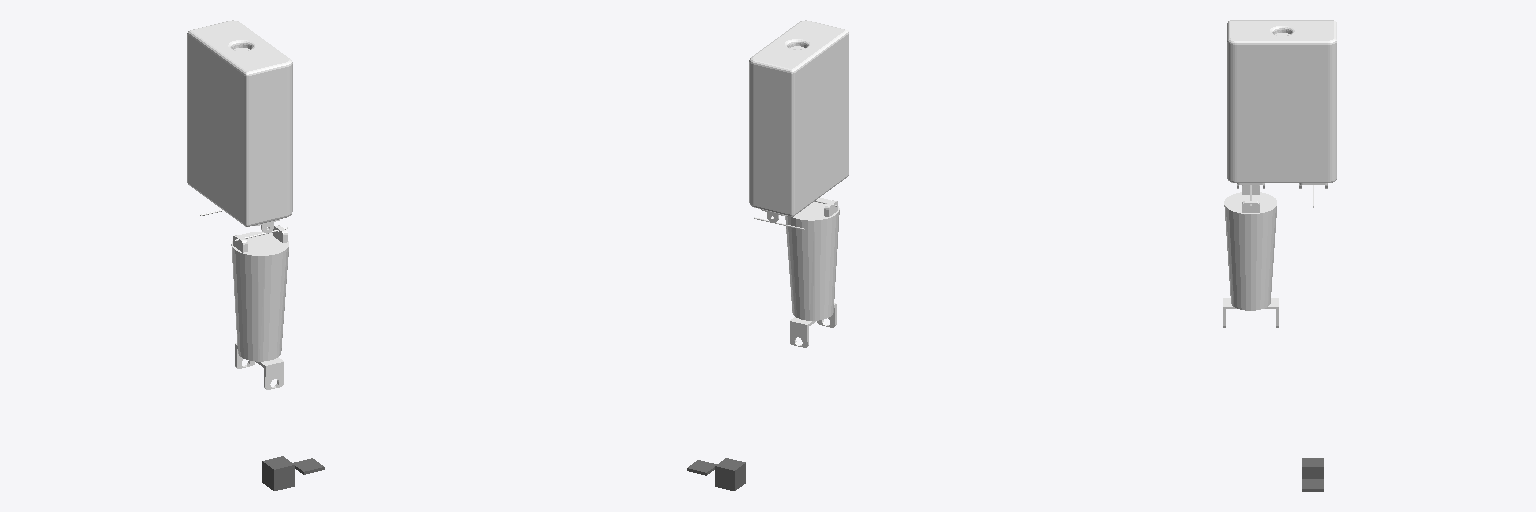
robot.urdf — base_ankle_end:
<?xml version="1.0" encoding="utf-8"?>
<!-- This URDF was automatically created by SolidWorks to URDF Exporter! Originally created by [author] ([email redacted]) 
     Commit Version: 1.6.0-4-g7f85cfe  Build Version: 1.6.7995.38578
     For more information, please see http://wiki.ros.org/sw_urdf_exporter -->
<robot
  name="base_ankle_end">
    <mujoco>
    	<compiler 
    	balanceinertia="true" 
    	discardvisual="false" />
    </mujoco>
  <!-- 以下为新加 -->

  <link name="base_link">
  <visual>
    <geometry>
      <box size="0.07 0.07 0.07" />
    </geometry>
    <origin xyz="0 0 0" rpy="0 0 0"/>
    <material name="gray">
      <color rgba="0.5 0.5 0.5 0.5"/>
    </material>
  </visual>
</link>

  <link name="box_base_link">
  <visual>
    <geometry>
      <box size="0.07 0.07 0.01" />
    </geometry>
    <origin xyz="0 0 0" rpy="0 0 0"/>
    <material name="gray">
      <color rgba="0.5 0.5 0.5 0.5"/>
    </material>
  </visual>
</link>

  <joint name="base_link-base_link_inertia" type="fixed">
    <parent link="base_link"/>
    <child link="box_base_link"/>
    <!-- 'base_link' is REP-103 aligned (so X+ forward), while the internal
           frames of the robot/controller have X+ pointing backwards.
           Use the joint between 'base_link' and 'base_link_inertia' (a dummy
           link/frame) to introduce the necessary rotation over Z (of pi rad).
      -->
    <origin rpy="0 0 0" xyz="0.1 0 0"/>
  </joint>
  <!-- 以上为新加 -->
  <link
    name="base_link1">
    <inertial>
      <origin
        xyz="-0.00519024755711195 9.39001414845819E-06 0.0173437496912965"
        rpy="0 0 0" />
      <mass
        value="0.645015214098198" />
      <inertia
        ixx="0.000503285498338914"
        ixy="1.09542180719944E-07"
        ixz="-4.87952889697005E-05"
        iyy="0.00265869095262655"
        iyz="-1.96247244867208E-07"
        izz="0.0030000255131344" />
    </inertial>
    <visual>
      <origin
        xyz="-0.1 0 0"
        rpy="0 0 0" />
      <geometry>
        <mesh
          filename="package://base_ankle_end/meshes/base_link.STL" />
      </geometry>
      <material
        name="ma_1">
        <color
          rgba="1 1 1 1" />
      </material>
    </visual>
    <collision>
      <origin
        xyz="-0.1 0 0"
        rpy="0 0 0" />
      <geometry>
        <mesh
          filename="package://base_ankle_end/meshes/base_link.STL" />
      </geometry>
    </collision>
  </link>

  <!-- 用固定关节将 front_box_link 接在 base_link 前方10cm -->
  <joint
    name="front_box_joint"
    type="revolute">
  <origin xyz="-0.1 0 0" rpy="0 0 0"/> <!-- 相对于base_link前方10cm -->
    <parent
      link="box_base_link" />
    <child
      link="base_link1" />
    <axis
      xyz="0 1 0" />
    <limit
      lower="-1.57"
      upper="1.57"
      effort="10"
      velocity="10" />
    <dynamics
      damping="0.5"
      friction="0.1" />
    <safety_controller
      k_position="0.5"
      k_velocity="1" />
  </joint>


  <link
    name="left_ankle_roll_link">
    <inertial>
      <origin
        xyz="0 0 1.38333788868295E-13"
        rpy="0 0 0" />
      <mass
        value="0.000848230016469244" />
      <inertia
        ixx="2.70197505004583E-09"
        ixy="-3.37231195980212E-22"
        ixz="-2.69558871925918E-09"
        iyy="1.44464174679918E-07"
        iyz="-9.92616735063633E-24"
        izz="1.44412918431339E-07" />
    </inertial>
    <visual>
      <origin
        xyz="0 0 0"
        rpy="0 0 0" />
      <geometry>
        <mesh
          filename="package://base_ankle_end/meshes/left_ankle_roll_link.STL" />
      </geometry>
      <material
        name="ma_2">
        <color
          rgba="1 1 1 1" />
      </material>
    </visual>
    <collision>
      <origin
        xyz="0 0 0"
        rpy="0 0 0" />
      <geometry>
        <mesh
          filename="package://base_ankle_end/meshes/left_ankle_roll_link.STL" />
      </geometry>
    </collision>
  </link>
  <joint
    name="left_ankle_roll_joint"
    type="revolute">
    <origin
      xyz="-0.178708 0 0.056852"
      rpy="0 0 0" />
    <parent
      link="base_link1" />
    <child
      link="left_ankle_roll_link" />
    <axis
      xyz="1 0 0" />
    <limit
      lower="-1.57"
      upper="1.57"
      effort="10"
      velocity="10" />
    <dynamics
      damping="0.5"
      friction="0.1" />
    <safety_controller
      k_position="0.5"
      k_velocity="1" />
  </joint>
  <link
    name="left_ankle_pitch_link">
    <inertial>
      <origin
        xyz="-0.0234064281405076 2.38679561981314E-05 0.201311963091324"
        rpy="0 0 0" />
      <mass
        value="3.27078267024693" />
      <inertia
        ixx="0.0280961171177838"
        ixy="3.58921474122266E-07"
        ixz="0.000281630435452185"
        iyy="0.0282914322023648"
        iyz="-5.3643597276653E-06"
        izz="0.00577588257165031" />
    </inertial>
    <visual>
      <origin
        xyz="0 0 0"
        rpy="0 0 0" />
      <geometry>
        <mesh
          filename="package://base_ankle_end/meshes/left_ankle_pitch_link.STL" />
      </geometry>
      <material
        name="ma_3">
        <color
          rgba="1 1 1 1" />
      </material>
    </visual>
    <collision>
      <origin
        xyz="0 0 0"
        rpy="0 0 0" />
      <geometry>
        <mesh
          filename="package://base_ankle_end/meshes/left_ankle_pitch_link.STL" />
      </geometry>
    </collision>
  </link>
  <joint
    name="left_ankle_pitch_joint"
    type="revolute">
    <origin
      xyz="0.0072073 0.0011663 0.040705"
      rpy="0 0 0" />
    <parent
      link="left_ankle_roll_link" />
    <child
      link="left_ankle_pitch_link" />
    <axis
      xyz="0 1 0" />
    <limit
      lower="-1.57"
      upper="1.57"
      effort="10"
      velocity="10" />
    <dynamics
      damping="0.5"
      friction="0.1" />
    <safety_controller
      k_position="0.5"
      k_velocity="1" />
  </joint>
  <link
    name="left_knee_link">
    <inertial>
      <origin
        xyz="0.00438963574186652 -0.000285077253932231 0.248207083173521"
        rpy="0 0 0" />
      <mass
        value="6.12468361635713" />
      <inertia
        ixx="0.0780580316058013"
        ixy="8.1539685054758E-08"
        ixz="-0.00106206707069426"
        iyy="0.0775561774505801"
        iyz="-4.41397833539879E-08"
        izz="0.0180192407121441" />
    </inertial>
    <visual>
      <origin
        xyz="0 0 0"
        rpy="0 0 0" />
      <geometry>
        <mesh
          filename="package://base_ankle_end/meshes/left_knee_link.STL" />
      </geometry>
      <material
        name="ma_4">
        <color
          rgba="1 1 1 1" />
      </material>
    </visual>
    <collision>
      <origin
        xyz="0 0 0"
        rpy="0 0 0" />
      <geometry>
        <mesh
          filename="package://base_ankle_end/meshes/left_knee_link.STL" />
      </geometry>
    </collision>
  </link>
  <joint
    name="left_knee_joint"
    type="revolute">
    <origin
      xyz="-0.012395 -0.00023097 0.35385"
      rpy="0 0 0" />
    <parent
      link="left_ankle_pitch_link" />
    <child
      link="left_knee_link" />
    <axis
      xyz="0 1 0" />
    <limit
      lower="-1.57"
      upper="0"
      effort="10"
      velocity="10" />
    <dynamics
      damping="0.5"
      friction="0.1" />
    <safety_controller
      k_position="0.5"
      k_velocity="1" />
  </joint>
  <link
    name="left_leg_roll_link">
    <inertial>
      <origin
        xyz="-5.55111512312578E-17 0 0"
        rpy="0 0 0" />
      <mass
        value="0.00339292006587698" />
      <inertia
        ixx="1.34635412444667E-08"
        ixy="2.25654871104466E-21"
        ixz="1.61811251767272E-07"
        iyy="9.16618561547077E-06"
        iyz="2.11758236813575E-22"
        izz="9.16332494943217E-06" />
    </inertial>
    <visual>
      <origin
        xyz="0 0 0"
        rpy="0 0 0" />
      <geometry>
        <mesh
          filename="package://base_ankle_end/meshes/left_leg_roll_link.STL" />
      </geometry>
      <material
        name="ma_5">
        <color
          rgba="1 1 1 1" />
      </material>
    </visual>
    <collision>
      <origin
        xyz="0 0 0"
        rpy="0 0 0" />
      <geometry>
        <mesh
          filename="package://base_ankle_end/meshes/left_leg_roll_link.STL" />
      </geometry>
    </collision>
  </link>
  <joint
    name="left_leg_roll_joint"
    type="revolute">
    <origin
      xyz="0.0099079 -0.00028408 0.44139"
      rpy="0 0 0" />
    <parent
      link="left_knee_link" />
    <child
      link="left_leg_roll_link" />
    <axis
      xyz="1 0 0" />
    <limit
      lower="-1.57"
      upper="1.57"
      effort="10"
      velocity="10" />
    <dynamics
      damping="0.5"
      friction="0.1" />
    <safety_controller
      k_position="0.5"
      k_velocity="1" />
  </joint>
  <link
    name="left_leg_pitch_link">
    <inertial>
      <origin
        xyz="8.21565038222616E-15 -0.000521354280183628 -5.32907051820075E-15"
        rpy="0 0 0" />
      <mass
        value="0.00113097335529233" />
      <inertia
        ixx="3.41059152455343E-07"
        ixy="-2.23493861754171E-22"
        ixz="-2.64697796016969E-23"
        iyy="3.5342917352885E-09"
        iyz="-9.91582759297942E-23"
        izz="3.41059152455343E-07" />
    </inertial>
    <visual>
      <origin
        xyz="0 0 0"
        rpy="0 0 0" />
      <geometry>
        <mesh
          filename="package://base_ankle_end/meshes/left_leg_pitch_link.STL" />
      </geometry>
      <material
        name="ma_6">
        <color
          rgba="1 1 1 1" />
      </material>
    </visual>
    <collision>
      <origin
        xyz="0 0 0"
        rpy="0 0 0" />
      <geometry>
        <mesh
          filename="package://base_ankle_end/meshes/left_leg_pitch_link.STL" />
      </geometry>
    </collision>
  </link>
  <joint
    name="left_leg_pitch_joint"
    type="revolute">
    <origin
      xyz="-0.0014168 0.00028408 0.038795"
      rpy="0 0 0" />
    <parent
      link="left_leg_roll_link" />
    <child
      link="left_leg_pitch_link" />
    <axis
      xyz="0 -1 0" />
    <limit
      lower="-1.57"
      upper="1.57"
      effort="10"
      velocity="10" />
    <dynamics
      damping="0.5"
      friction="0.1" />
    <safety_controller
      k_position="0.5"
      k_velocity="1" />
  </joint>
  <link
    name="left_leg_yaw_link">
    <inertial>
      <origin
        xyz="1.10711440015621E-12 -1.6278089987054E-12 -0.00611239261076424"
        rpy="0 0 0" />
      <mass
        value="0.0720785409137567" />
      <inertia
        ixx="7.34571821011851E-05"
        ixy="6.18334051495639E-20"
        ixz="1.13502414932076E-19"
        iyy="4.8256871247448E-05"
        iyz="2.10064170919066E-19"
        izz="0.000110077477602683" />
    </inertial>
    <visual>
      <origin
        xyz="0 0 0"
        rpy="0 0 0" />
      <geometry>
        <mesh
          filename="package://base_ankle_end/meshes/left_leg_yaw_link.STL" />
      </geometry>
      <material
        name="ma_7">
        <color
          rgba="1 1 1 1" />
      </material>
    </visual>
    <collision>
      <origin
        xyz="0 0 0"
        rpy="0 0 0" />
      <geometry>
        <mesh
          filename="package://base_ankle_end/meshes/left_leg_yaw_link.STL" />
      </geometry>
    </collision>
  </link>
  <joint
    name="left_leg_yaw_joint"
    type="revolute">
    <origin
      xyz="0 0 0.021287"
      rpy="0 0 0" />
    <parent
      link="left_leg_pitch_link" />
    <child
      link="left_leg_yaw_link" />
    <axis
      xyz="0 0 1" />
    <limit
      lower="-1.57"
      upper="1.57"
      effort="10"
      velocity="10" />
    <dynamics
      damping="0.5"
      friction="0.1" />
    <safety_controller
      k_position="0.5"
      k_velocity="1" />
  </joint>
  <link
    name="body_link">
    <inertial>
      <origin
        xyz="3.33066907387547E-16 1.66533453693773E-15 1.33226762955019E-15"
        rpy="0 0 0" />
      <mass
        value="28.2247396154342" />
      <inertia
        ixx="0.867790478713512"
        ixy="-1.38777878078145E-17"
        ixz="-2.39840411104877E-05"
        iyy="0.65033414213868"
        iyz="1.11022302462516E-16"
        izz="0.351969962013228" />
    </inertial>
    <visual>
      <origin
        xyz="0 0 0"
        rpy="0 0 0" />
      <geometry>
        <mesh
          filename="package://base_ankle_end/meshes/body_link.STL" />
      </geometry>
      <material
        name="ma_8">
        <color
          rgba="1 1 1 1" />
      </material>
    </visual>
    <collision>
      <origin
        xyz="0 0 0"
        rpy="0 0 0" />
      <geometry>
        <mesh
          filename="package://base_ankle_end/meshes/body_link.STL" />
      </geometry>
    </collision>
  </link>
  <joint
    name="body_joint"
    type="fixed">
    <origin
      xyz="-0.0080688 -0.099502 0.26041"
      rpy="0 0 0" />
    <parent
      link="left_leg_yaw_link" />
    <child
      link="body_link" />
    <axis
      xyz="0 0 0" />
    <limit
      lower="-3.14"
      upper="3.14"
      effort="100"
      velocity="100" />
  </joint>
  <link
    name="right_leg_yaw_link">
    <inertial>
      <origin
        xyz="7.19202475352176E-13 -1.57251989207907E-12 -0.00477239261085849"
        rpy="0 0 0" />
      <mass
        value="0.0720785409137568" />
      <inertia
        ixx="7.3457182101185E-05"
        ixy="3.3881317890172E-21"
        ixz="-2.05829006182795E-19"
        iyy="4.8256871247448E-05"
        iyz="-5.75982404132924E-20"
        izz="0.000110077477602683" />
    </inertial>
    <visual>
      <origin
        xyz="0 0 0"
        rpy="0 0 0" />
      <geometry>
        <mesh
          filename="package://base_ankle_end/meshes/right_leg_yaw_link.STL" />
      </geometry>
      <material
        name="ma_9">
        <color
          rgba="1 1 1 1" />
      </material>
    </visual>
    <collision>
      <origin
        xyz="0 0 0"
        rpy="0 0 0" />
      <geometry>
        <mesh
          filename="package://base_ankle_end/meshes/right_leg_yaw_link.STL" />
      </geometry>
    </collision>
  </link>
  <joint
    name="right_leg_yaw_join"
    type="revolute">
    <origin
      xyz="0.0080688 -0.099502 -0.26176"
      rpy="0 0 0" />
    <parent
      link="body_link" />
    <child
      link="right_leg_yaw_link" />
    <axis
      xyz="0 0 1" />
    <limit
      lower="-1.57"
      upper="1.57"
      effort="10"
      velocity="10" />
    <dynamics
      damping="0.5"
      friction="0.1" />
  </joint>
  <link
    name="right_leg_pitch_link">
    <inertial>
      <origin
        xyz="4.38538094726937E-15 4.00252371324794E-05 6.66133814775094E-16"
        rpy="0 0 0" />
      <mass
        value="0.00113097335529233" />
      <inertia
        ixx="3.41059152455343E-07"
        ixy="2.31662270303132E-22"
        ixz="5.29395592033938E-23"
        iyy="3.5342917352886E-09"
        iyz="-2.20340235668813E-22"
        izz="3.41059152455343E-07" />
    </inertial>
    <visual>
      <origin
        xyz="0 0 0"
        rpy="0 0 0" />
      <geometry>
        <mesh
          filename="package://base_ankle_end/meshes/right_leg_pitch_link.STL" />
      </geometry>
      <material
        name="ma_19">
        <color
          rgba="1 1 1 1" />
      </material>
    </visual>
    <collision>
      <origin
        xyz="0 0 0"
        rpy="0 0 0" />
      <geometry>
        <mesh
          filename="package://base_ankle_end/meshes/right_leg_pitch_link.STL" />
      </geometry>
    </collision>
  </link>
  <joint
    name="right_leg_pitch_joint"
    type="revolute">
    <origin
      xyz="0 0 -0.019947"
      rpy="0 0 0" />
    <parent
      link="right_leg_yaw_link" />
    <child
      link="right_leg_pitch_link" />
    <axis
      xyz="0 1 0" />
    <limit
      lower="-1.57"
      upper="1.57"
      effort="10"
      velocity="10" />
    <dynamics
      damping="0.5"
      friction="0.1" />
    <safety_controller
      k_position="0.5"
      k_velocity="1" />
  </joint>
  <link
    name="right_leg_roll_link">
    <inertial>
      <origin
        xyz="-0.00289569852906202 3.10341332410147E-07 -0.192991489371366"
        rpy="0 0 0" />
      <mass
        value="6.1246818435944" />
      <inertia
        ixx="0.0780640540254404"
        ixy="8.60302312591724E-08"
        ixz="-0.000465836285131253"
        iyy="0.0775652986551364"
        iyz="-4.26589602752457E-08"
        izz="0.018004068548793" />
    </inertial>
    <visual>
      <origin
        xyz="0 0 0"
        rpy="0 0 0" />
      <geometry>
        <mesh
          filename="package://base_ankle_end/meshes/right_leg_roll_link.STL" />
      </geometry>
      <material
        name="ma_10">
        <color
          rgba="1 1 1 1" />
      </material>
    </visual>
    <collision>
      <origin
        xyz="0 0 0"
        rpy="0 0 0" />
      <geometry>
        <mesh
          filename="package://base_ankle_end/meshes/right_leg_roll_link.STL" />
      </geometry>
    </collision>
  </link>
  <joint
    name="right_leg_roll_joint"
    type="revolute">
    <origin
      xyz="0.0010999 -0.00042424 -0.038774"
      rpy="0 0 0" />
    <parent
      link="right_leg_pitch_link" />
    <child
      link="right_leg_roll_link" />
    <axis
      xyz="1 0 0" />
    <limit
      lower="-1.57"
      upper="1.57"
      effort="10"
      velocity="10" />
    <dynamics
      damping="0.5"
      friction="0.1" />
    <safety_controller
      k_position="0.5"
      k_velocity="1" />
  </joint>
  <link
    name="right_knee_link">
    <inertial>
      <origin
        xyz="-0.00996661968326495 -0.00124347144143699 -0.152397357108272"
        rpy="0 0 0" />
      <mass
        value="3.27332620914654" />
      <inertia
        ixx="0.0281003122486027"
        ixy="3.9541620208694E-07"
        ixz="0.000432870163542371"
        iyy="0.028291455089244"
        iyz="-5.36037576514495E-06"
        izz="0.00578974877715313" />
    </inertial>
    <visual>
      <origin
        xyz="0 0 0"
        rpy="0 0 0" />
      <geometry>
        <mesh
          filename="package://base_ankle_end/meshes/right_knee_link.STL" />
      </geometry>
      <material
        name="ma_11">
        <color
          rgba="1 1 1 1" />
      </material>
    </visual>
    <collision>
      <origin
        xyz="0 0 0"
        rpy="0 0 0" />
      <geometry>
        <mesh
          filename="package://base_ankle_end/meshes/right_knee_link.STL" />
      </geometry>
    </collision>
  </link>
  <joint
    name="right_knee_joint"
    type="revolute">
    <origin
      xyz="-0.0048229 0.00042424 -0.44148"
      rpy="0 0 0" />
    <parent
      link="right_leg_roll_link" />
    <child
      link="right_knee_link" />
    <axis
      xyz="0 -1 0" />
    <limit
      lower="-1.57"
      upper="1.57"
      effort="10"
      velocity="10" />
    <dynamics
      damping="0.5"
      friction="0.1" />
    <safety_controller
      k_position="0.5"
      k_velocity="1" />
  </joint>
  <link
    name="right_ankle_pitch_link">
    <inertial>
      <origin
        xyz="-5.55111512312578E-17 -1.11022302462516E-16 -2.22044604925031E-16"
        rpy="0 0 0" />
      <mass
        value="0.000848230016469244" />
      <inertia
        ixx="1.44464174679918E-07"
        ixy="6.29717090700135E-22"
        ixz="-4.96308367531817E-24"
        iyy="2.65071880146639E-09"
        iyz="-5.00030680288305E-22"
        izz="1.44464174679918E-07" />
    </inertial>
    <visual>
      <origin
        xyz="0 0 0"
        rpy="0 0 0" />
      <geometry>
        <mesh
          filename="package://base_ankle_end/meshes/right_ankle_pitch_link.STL" />
      </geometry>
      <material
        name="ma_12">
        <color
          rgba="1 1 1 1" />
      </material>
    </visual>
    <collision>
      <origin
        xyz="0 0 0"
        rpy="0 0 0" />
      <geometry>
        <mesh
          filename="package://base_ankle_end/meshes/right_ankle_pitch_link.STL" />
      </geometry>
    </collision>
  </link>
  <joint
    name="right_ankle_pitch_joint"
    type="continuous">
    <origin
      xyz="0.0148 -0.0012742 -0.35375"
      rpy="0 0 0" />
    <parent
      link="right_knee_link" />
    <child
      link="right_ankle_pitch_link" />
    <axis
      xyz="0 1 0" />
    <limit
      lower="-1.57"
      upper="1.57"
      effort="10"
      velocity="10" />
    <dynamics
      damping="0.5"
      friction="0.1" />
    <safety_controller
      k_position="0.5"
      k_velocity="1" />
  </joint>
  <link
    name="right_ankle_roll_link">
    <inertial>
      <origin
        xyz="0.0535943280540432 9.37743761397769E-06 -0.0392563681851867"
        rpy="0 0 0" />
      <mass
        value="0.645863444025517" />
      <inertia
        ixx="0.000503688252971416"
        ixy="1.10275346312227E-07"
        ixz="-5.81374898756995E-05"
        iyy="0.00265883541640769"
        iyz="-1.95836094167676E-07"
        izz="0.00299976987276475" />
    </inertial>
    <visual>
      <origin
        xyz="0 0 0"
        rpy="0 0 0" />
      <geometry>
        <mesh
          filename="package://base_ankle_end/meshes/right_ankle_roll_link.STL" />
      </geometry>
      <material
        name="ma_13">
        <color
          rgba="1 1 1 1" />
      </material>
    </visual>
    <collision>
      <origin
        xyz="0 0 0"
        rpy="0 0 0" />
      <geometry>
        <mesh
          filename="package://base_ankle_end/meshes/right_ankle_roll_link.STL" />
      </geometry>
    </collision>
  </link>
  <joint
    name="right_ankle_roll_joint"
    type="revolute">
    <origin
      xyz="0.0025155 -0.00062636 -0.040146"
      rpy="0 0 0" />
    <parent
      link="right_ankle_pitch_link" />
    <child
      link="right_ankle_roll_link" />
    <axis
      xyz="1 0 0" />
    <limit
      lower="-1.57"
      upper="1.57"
      effort="10"
      velocity="10" />
    <dynamics
      damping="0.5"
      friction="0.1" />
    <safety_controller
      k_position="0.5"
      k_velocity="1" />
  </joint>
</robot>

--- Render facts (derived) ---
3 views of the same robot in one strip: view 1: azimuth 30°, elevation 25°; view 2: azimuth 150°, elevation 25°; view 3: azimuth 270°, elevation 25° (orthographic).
Model base_ankle_end with 16 links and 15 joints (12 revolute, 1 continuous, 2 fixed), rooted at base_link, posed every joint at zero.
Visible links, largest first — view 1: body_link, right_leg_roll_link, base_link; view 2: body_link, right_leg_roll_link, base_link; view 3: body_link, right_leg_roll_link.
Link boxes in pixels (box(x1,y1,x2,y2)): body_link: box(187, 20, 292, 226); right_leg_roll_link: box(231, 225, 288, 389); base_link: box(262, 456, 294, 490); body_link: box(749, 20, 848, 216); right_leg_roll_link: box(785, 198, 839, 347); base_link: box(715, 458, 745, 490); body_link: box(1227, 20, 1336, 182); right_leg_roll_link: box(1223, 185, 1278, 327).
Bounding box of the posed robot: 0.403 × 0.3646 × 1.5 m (x, y, z).
7 mesh visuals loaded from 14 distinct referenced files (7 binary STL); not drawn: 7 (reference not matched to a file when rendering).
